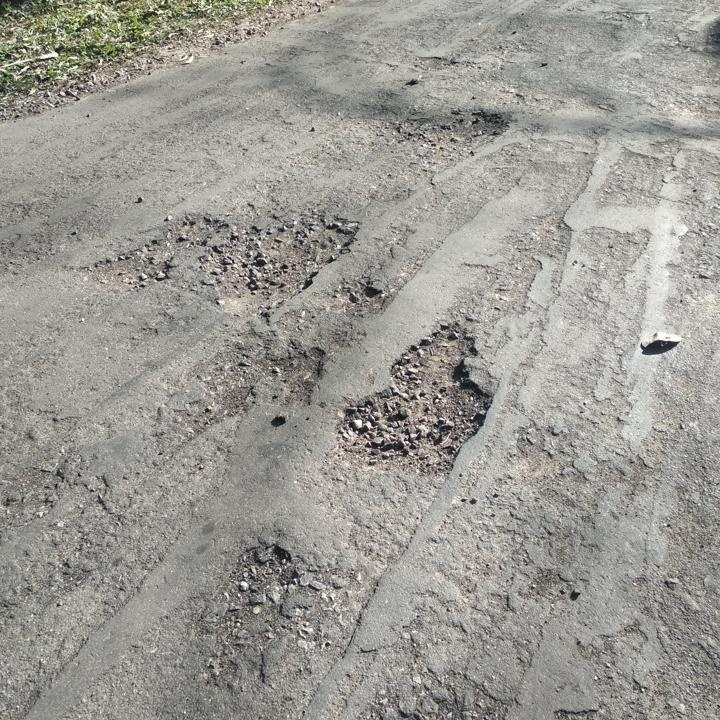pothole: (328, 319, 499, 481), (199, 199, 365, 310), (201, 539, 301, 682), (75, 210, 226, 292), (193, 343, 328, 422), (416, 106, 514, 165), (317, 277, 387, 314)
